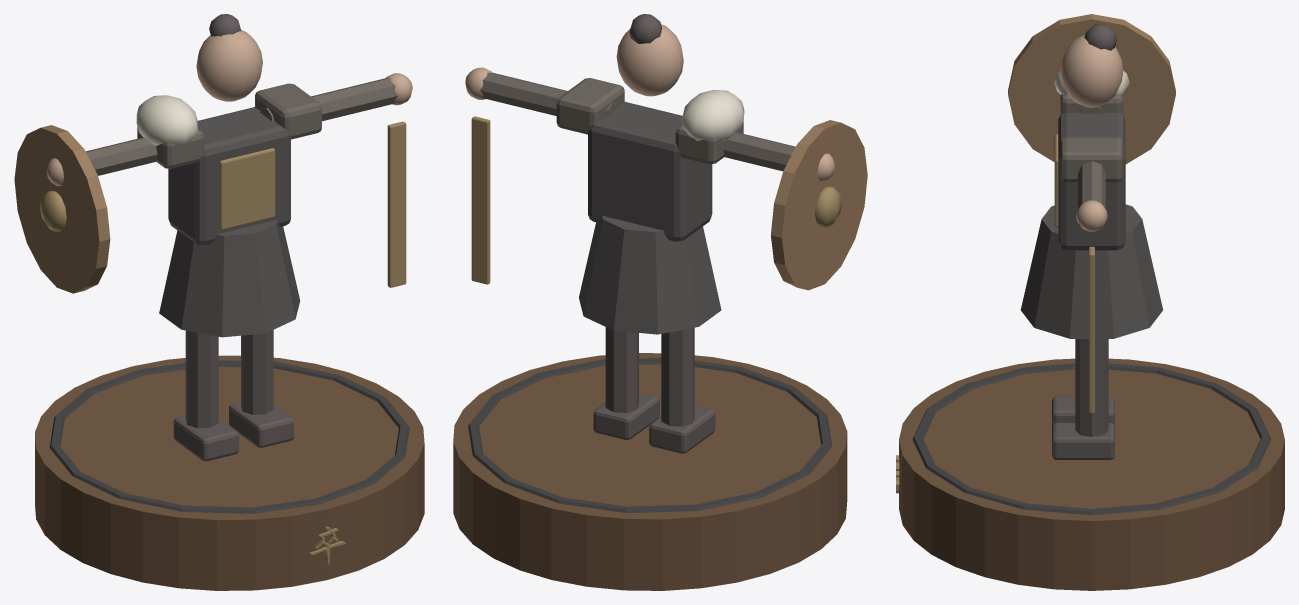
The model's file is soldier_black.glb.
3 views of the same model, side by side, from view 1: azimuth 30°, elevation 25°; view 2: azimuth 150°, elevation 25°; view 3: azimuth 270°, elevation 25° (orthographic). The views are drawn at different scales.
Parts seen in each view (by area): view 1: base, s_skirt, s_shield, s_cuirass, base_trim_top, s_plastron, s_head, s_dao_blade, s_leg_-0.075, s_leg_0.075, s_trophy, s_pauldron_1 (+7 smaller); view 2: base, s_skirt, s_cuirass, s_shield, base_trim_top, s_head, s_dao_blade, s_leg_-0.075, s_leg_0.075, s_trophy, s_pauldron_1, s_arm_1 (+6 smaller); view 3: base, s_skirt, s_shield, base_trim_top, s_cuirass, s_head, s_leg_0.075, s_pauldron_1, s_boot_0.075, s_arm_1, s_dao_blade, s_boot_-0.075 (+3 smaller).
Part boxes in pixels (<box>): base: <box>35,355,424,590</box>; s_skirt: <box>159,220,300,337</box>; s_shield: <box>14,125,110,293</box>; s_cuirass: <box>168,107,290,245</box>; base_trim_top: <box>49,360,409,513</box>; s_plastron: <box>219,148,275,230</box>; s_head: <box>196,30,262,101</box>; s_dao_blade: <box>387,121,406,287</box>; s_leg_-0.075: <box>185,330,218,428</box>; s_leg_0.075: <box>241,330,273,414</box>; s_trophy: <box>136,95,197,145</box>; s_pauldron_1: <box>255,83,321,139</box>; base: <box>453,353,847,590</box>; s_skirt: <box>579,215,721,334</box>; s_cuirass: <box>588,102,712,241</box>; s_shield: <box>770,120,867,290</box>; base_trim_top: <box>468,357,831,512</box>; s_head: <box>616,24,683,96</box>; s_dao_blade: <box>471,116,490,284</box>; s_leg_-0.075: <box>661,327,694,426</box>; s_leg_0.075: <box>605,327,638,412</box>; s_trophy: <box>682,89,744,140</box>; s_pauldron_1: <box>556,78,624,134</box>; s_arm_1: <box>480,72,618,116</box>; base: <box>899,358,1284,590</box>; s_skirt: <box>1020,204,1162,338</box>; s_shield: <box>1008,14,1175,164</box>; base_trim_top: <box>912,363,1271,515</box>; s_cuirass: <box>1058,113,1125,250</box>; s_head: <box>1060,35,1123,107</box>; s_leg_0.075: <box>1075,339,1108,436</box>; s_pauldron_1: <box>1060,137,1123,182</box>; s_boot_0.075: <box>1052,422,1114,459</box>; s_arm_1: <box>1078,161,1105,208</box>; s_dao_blade: <box>1089,246,1094,413</box>; s_boot_-0.075: <box>1052,396,1114,426</box>.
Bounding box in the file's own units: 0.9961 × 1.27 × 0.927.
